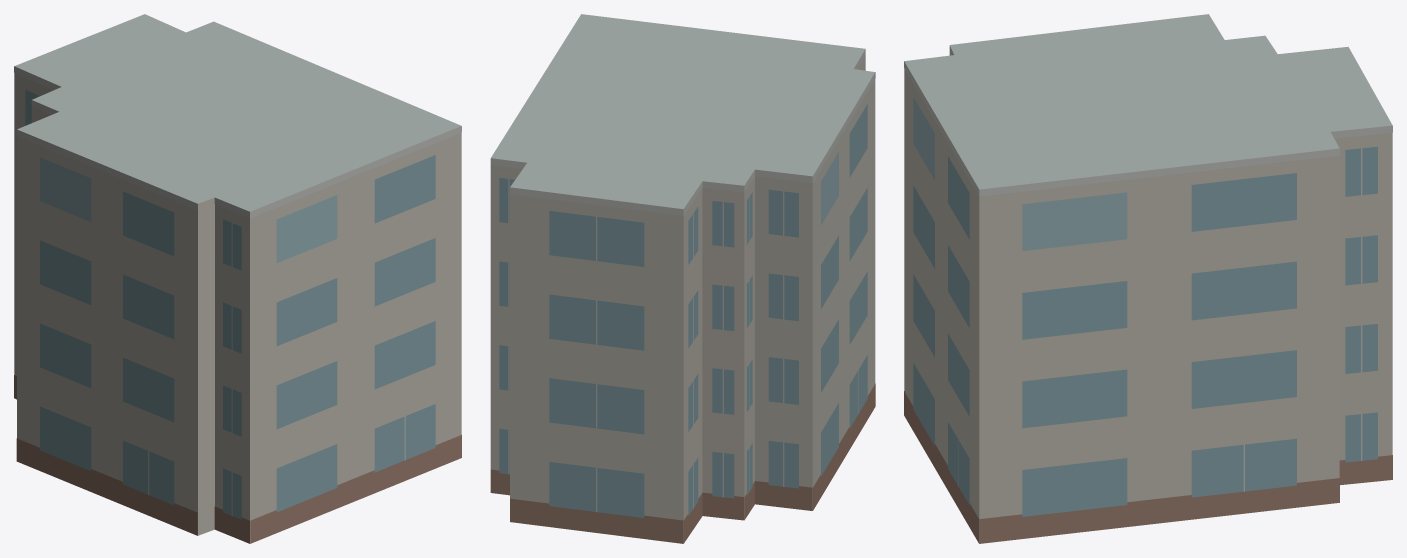
The model's file is survey-upis-32771092.glb.
The picture shows the model from 3 angles, left to right: view 1: azimuth 30°, elevation 25°; view 2: azimuth 150°, elevation 25°; view 3: azimuth 270°, elevation 25°; orthographic projection. The views are drawn at different scales.
Visible parts, largest first — view 1: survey-upis-32771092.tmp; view 2: survey-upis-32771092.tmp; view 3: survey-upis-32771092.tmp.
Boxes of the visible parts, <box> form: survey-upis-32771092.tmp: <box>14,14,461,543</box>; survey-upis-32771092.tmp: <box>490,14,875,543</box>; survey-upis-32771092.tmp: <box>904,14,1392,543</box>.
Size of the model in its own units: 12.98 by 12.2 by 15.26.
